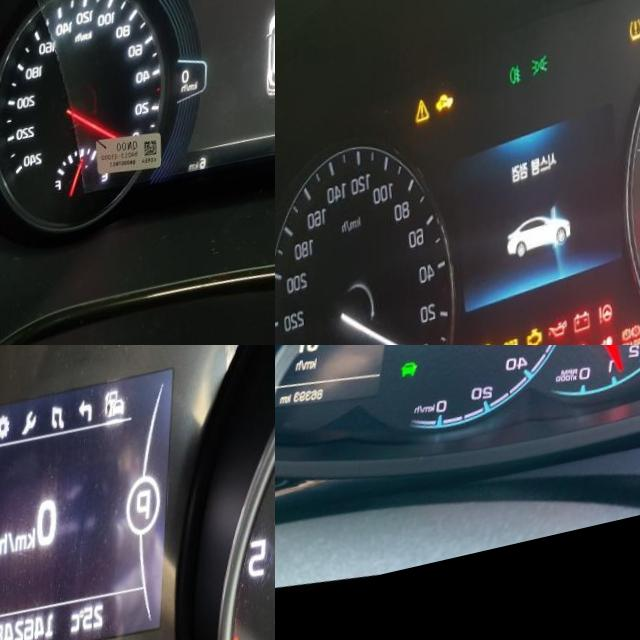Central Warning lamp: (418, 103, 433, 131)
FrontFogLight: (511, 74, 525, 99)
SideLamp: (532, 65, 552, 90)
